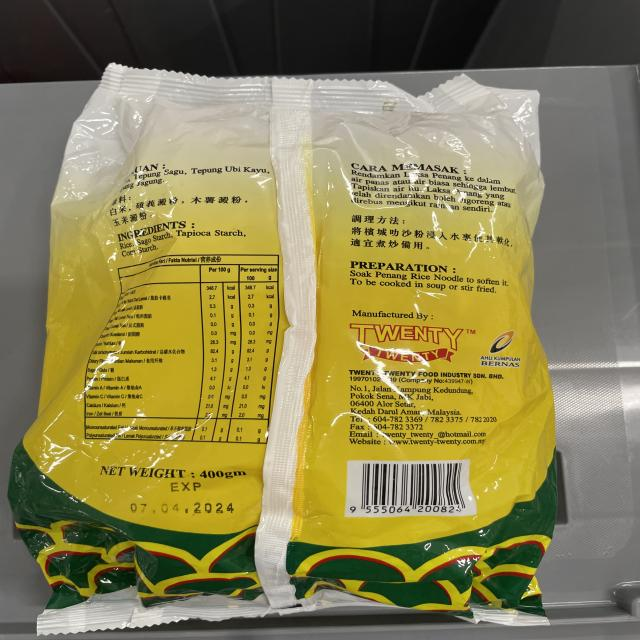object_name: (55, 84, 535, 602)
